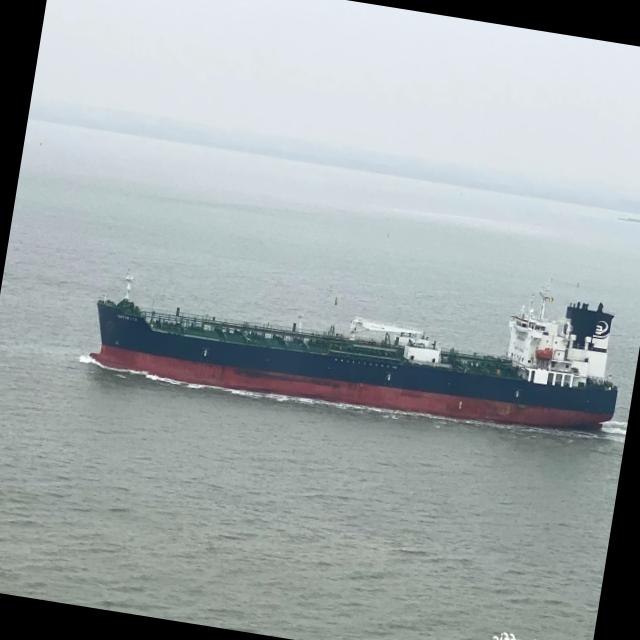Tanker: (90, 284, 618, 429)
